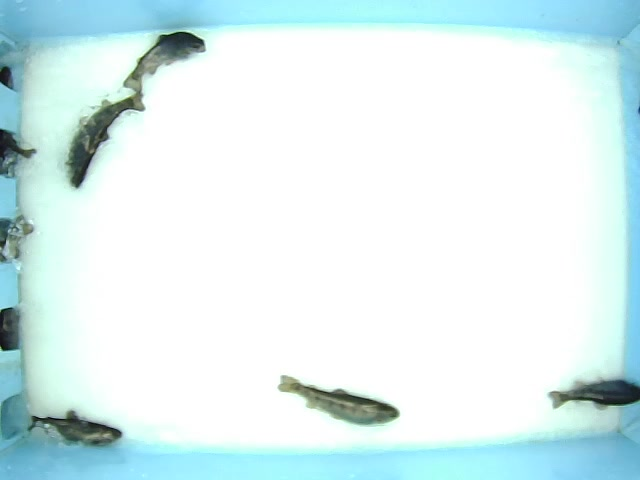fish: (63, 88, 147, 191), (275, 372, 402, 426), (122, 31, 208, 94), (26, 407, 124, 452), (546, 376, 640, 413)
